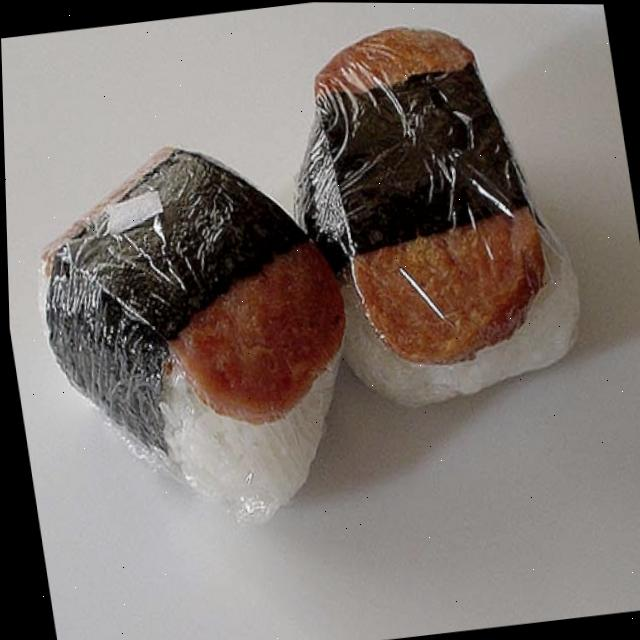寿司卷物: (0, 0, 626, 565)
